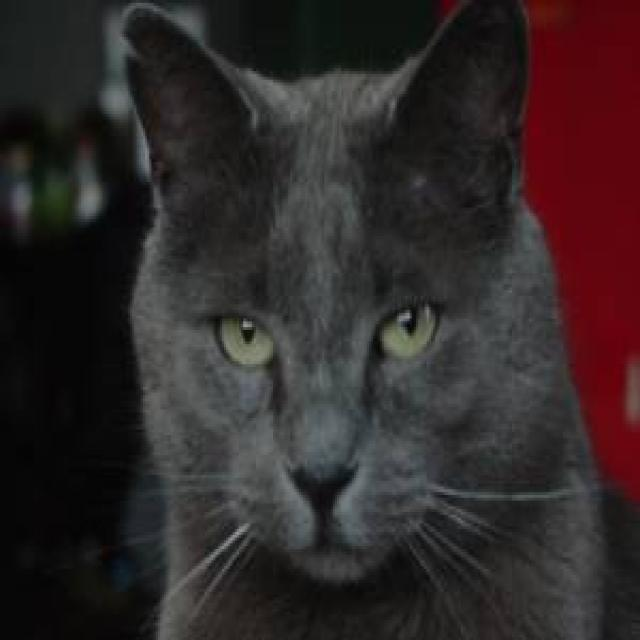Russian_Blue: (114, 0, 565, 591)
